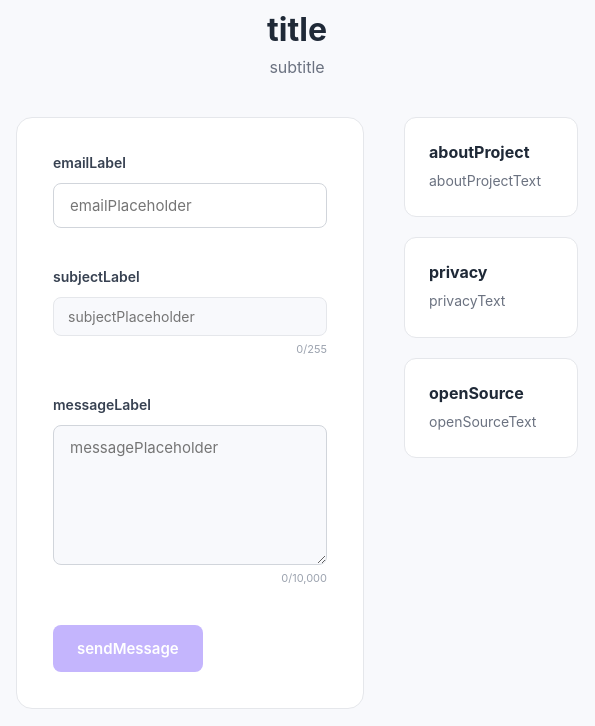
Test: ContactPage › enables submit when all fields are valid
The width and height of the screenshot is (595, 726).
Step 1. Type "test@example.com" into the field labelled "emailLabel" → (190, 206), box [53,183,327,228]
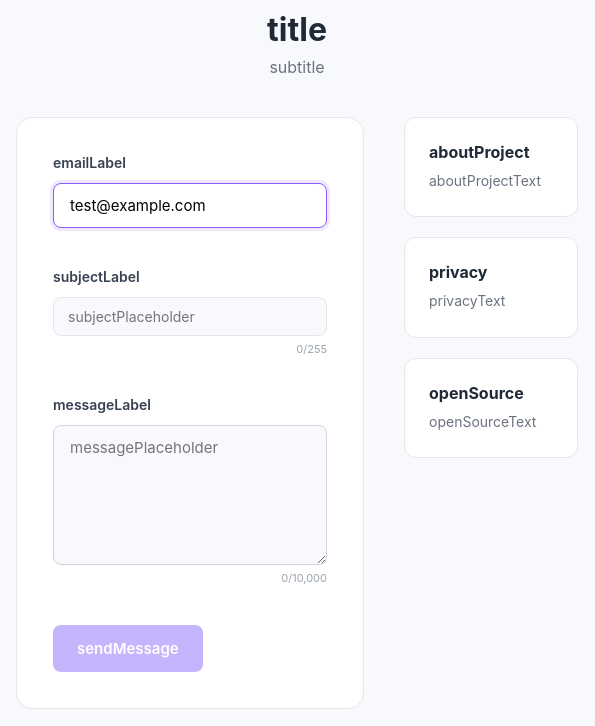
Step 2. Type "Test" into the field labelled "subjectLabel" → (190, 316), box [53,297,327,336]
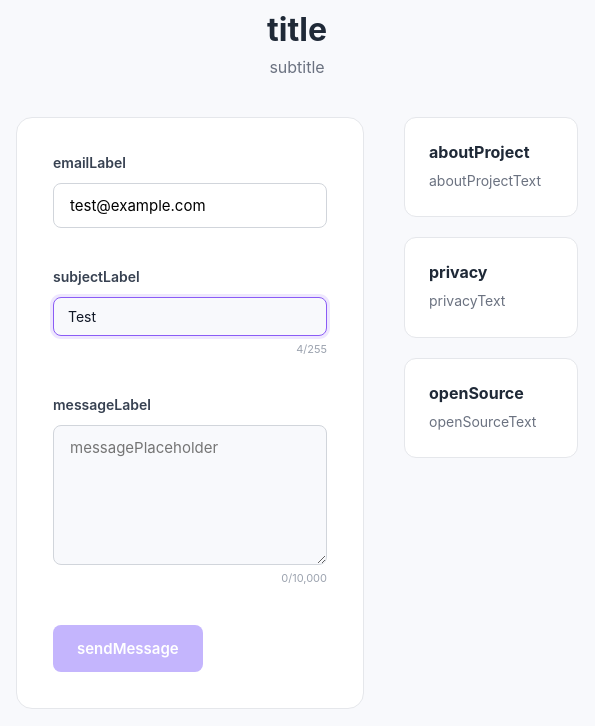
Step 3. Type "Hello world" into the text box labelled "messageLabel" → (190, 495), box [53,425,327,565]
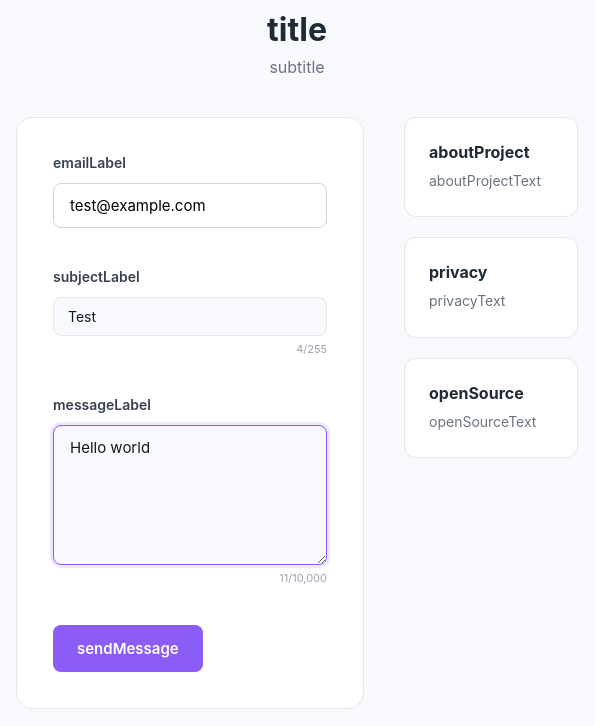
Now the button "sendMessage" is enabled, box [53,625,203,672]
